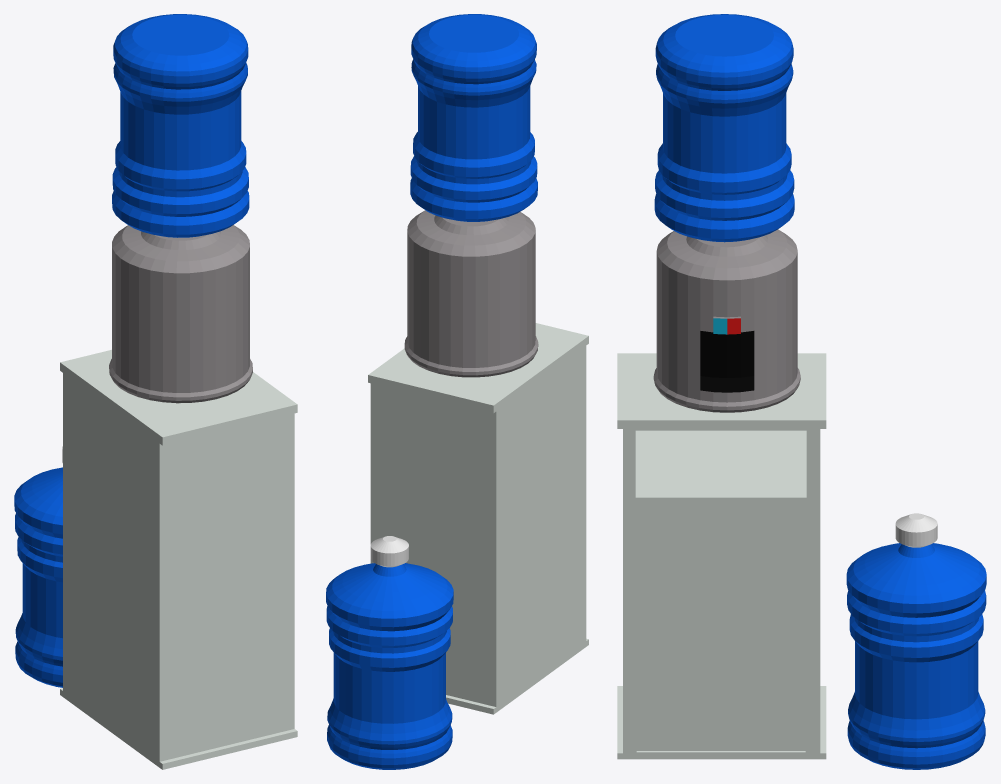
The model's file is agua-mdl.glb.
3 views of the same model, side by side, from view 1: azimuth 30°, elevation 25°; view 2: azimuth 150°, elevation 25°; view 3: azimuth 270°, elevation 25° (orthographic). The views are drawn at different scales.
Visible parts, largest first — view 1: Cube, Cylinder.006, Cylinder.005, Cylinder.004; view 2: Cube, Cylinder.004, Cylinder.006, Cylinder.005; view 3: Cube, Cylinder.004, Cylinder.006, Cylinder.005.
Part boxes in pixels (left/top/right/bottom): Cube: left=60, top=349, right=297, bottom=769; Cylinder.006: left=112, top=14, right=249, bottom=237; Cylinder.005: left=109, top=225, right=252, bottom=403; Cylinder.004: left=14, top=446, right=62, bottom=687; Cube: left=368, top=323, right=588, bottom=714; Cylinder.004: left=326, top=536, right=453, bottom=769; Cylinder.006: left=410, top=14, right=537, bottom=221; Cylinder.005: left=404, top=210, right=538, bottom=377; Cube: left=617, top=353, right=826, bottom=759; Cylinder.004: left=846, top=513, right=986, bottom=769; Cylinder.006: left=654, top=14, right=794, bottom=242; Cylinder.005: left=653, top=229, right=800, bottom=412.
Bounding box in the file's own units: 0.2868 × 1.42 × 0.6649.
